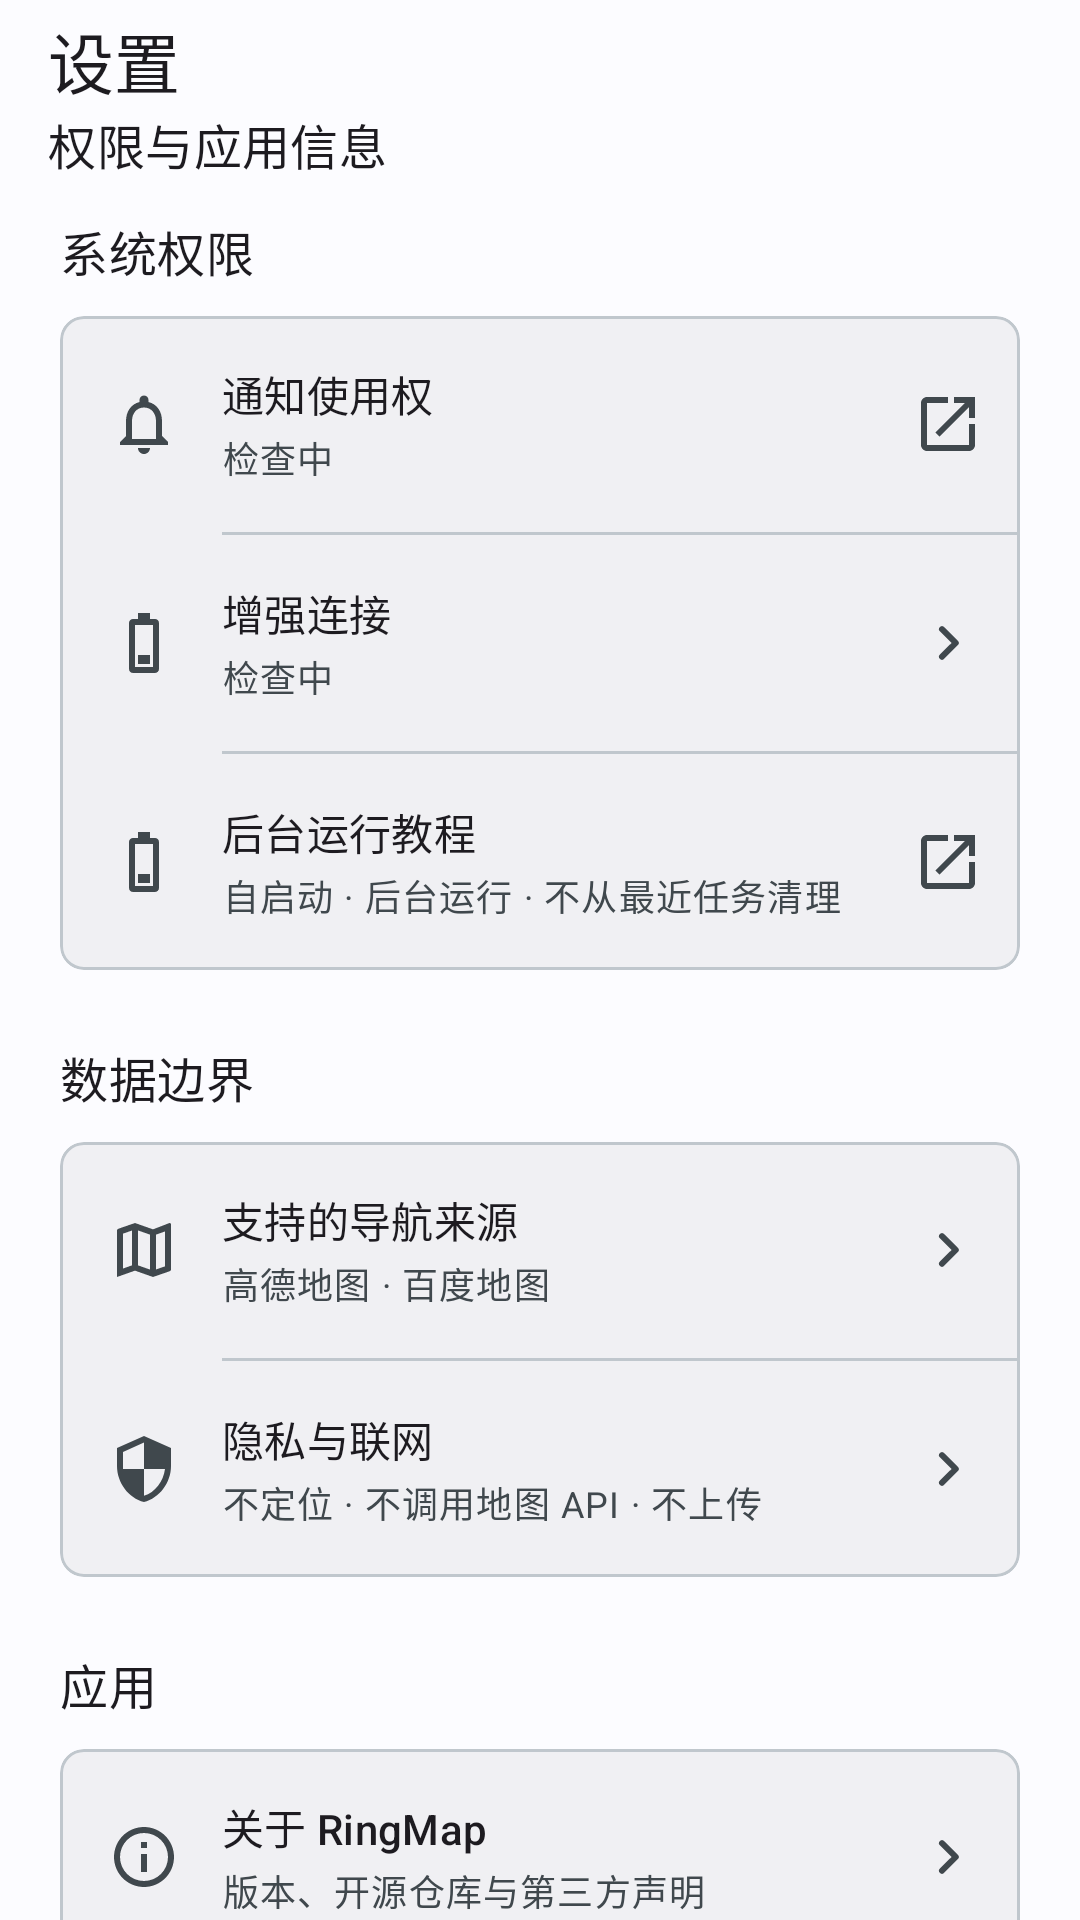

Screen size 1080px x 1920px. Icon name, then its box in pixels as (x1, y1, x2, y2):
chevron right: (939, 626, 959, 660)
open external: (921, 397, 975, 451), (921, 835, 975, 889)
